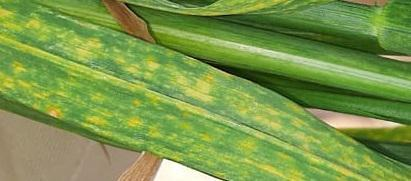Wheat: (6, 4, 189, 153), (168, 62, 394, 177)
